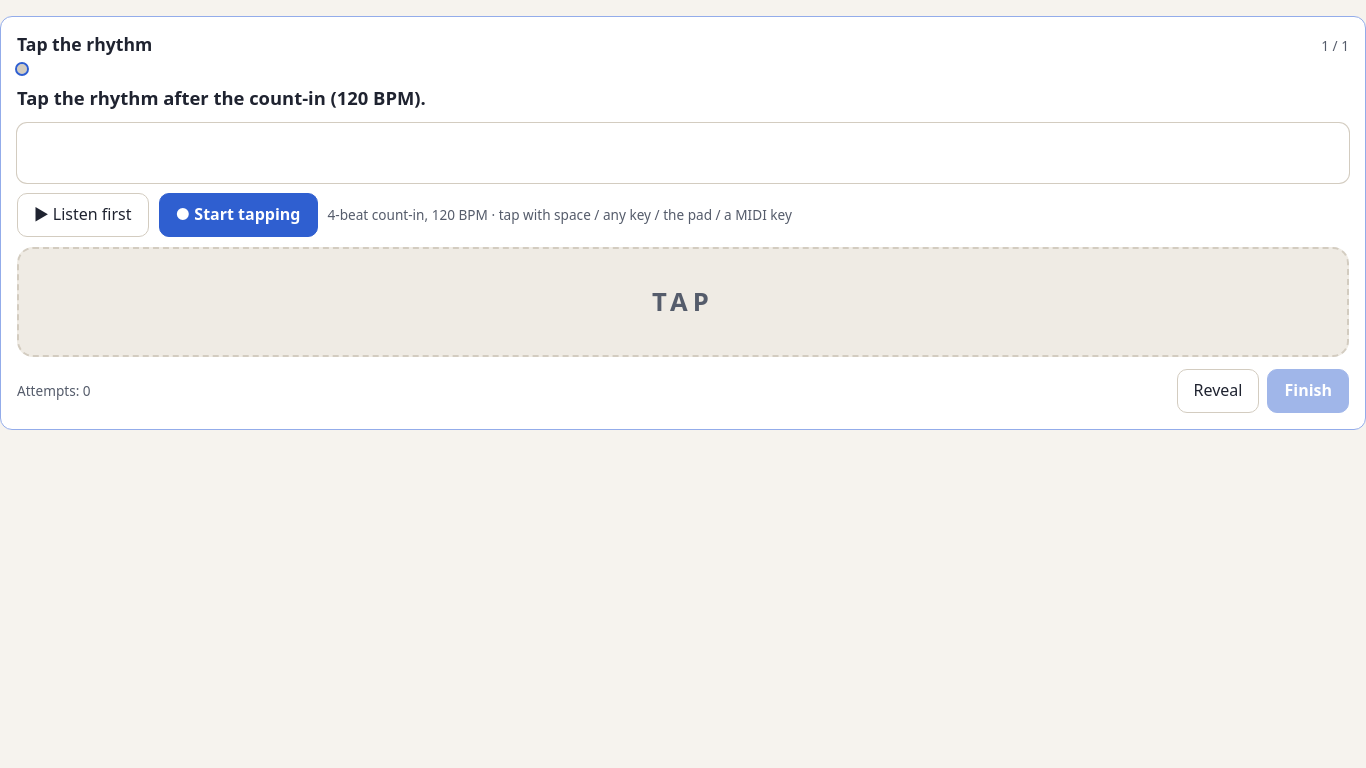
Test: timing exercises (performance capture) › rhythm-tap: space bar taps, late taps reported
The width and height of the screenshot is (1366, 768).
Step 1. Click the button with test id "perf-start" → (238, 215), box x1=158 y1=193 x2=318 y2=237
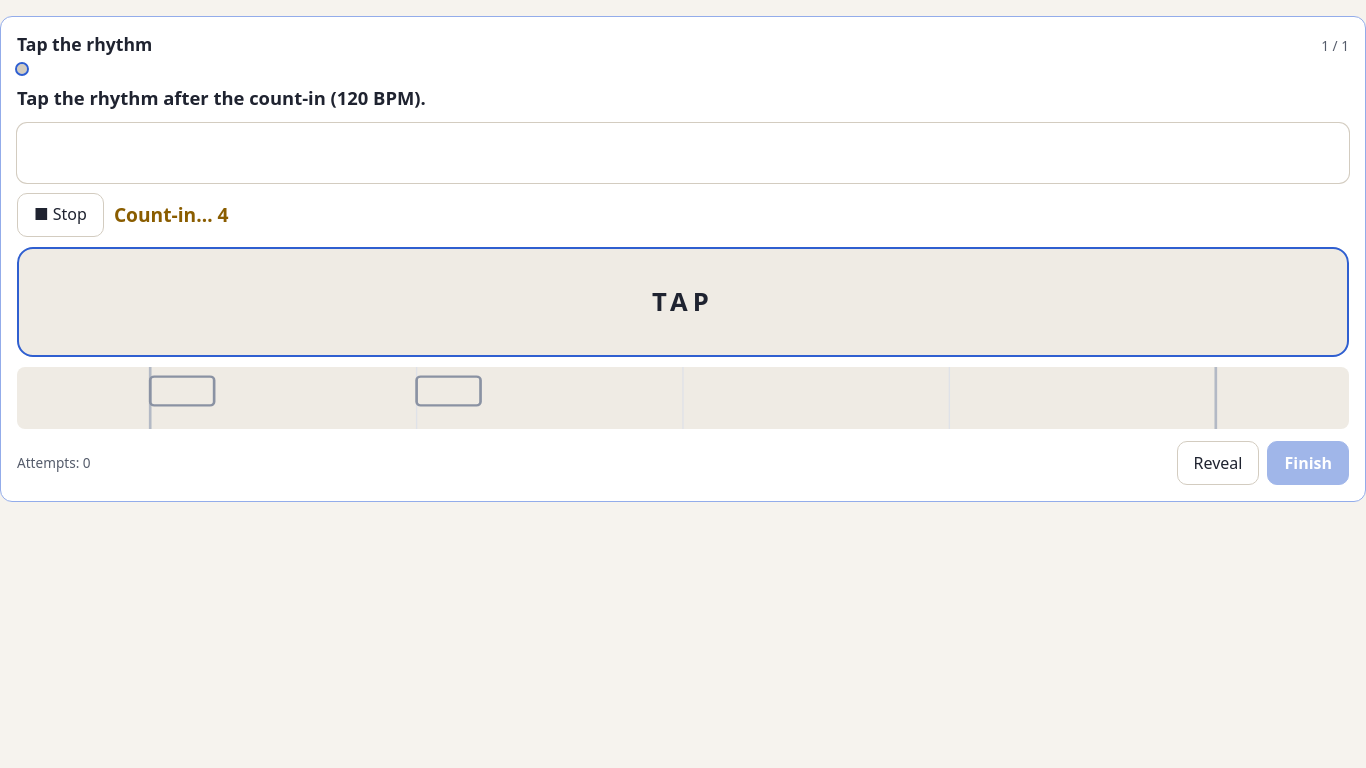
Step 2. Press Space
Step 3. Press Space
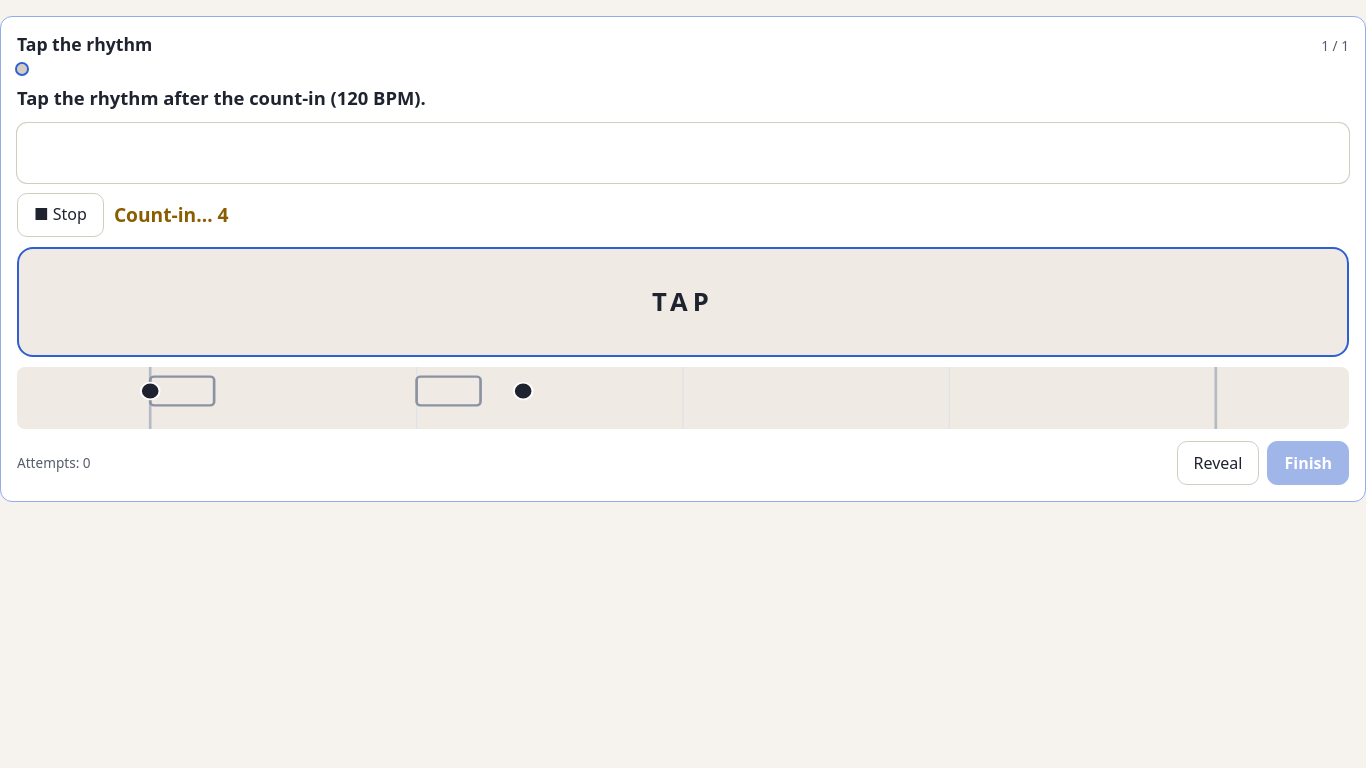
Step 4. Click the button with test id "perf-stop" → (60, 215), box x1=17 y1=193 x2=104 y2=237
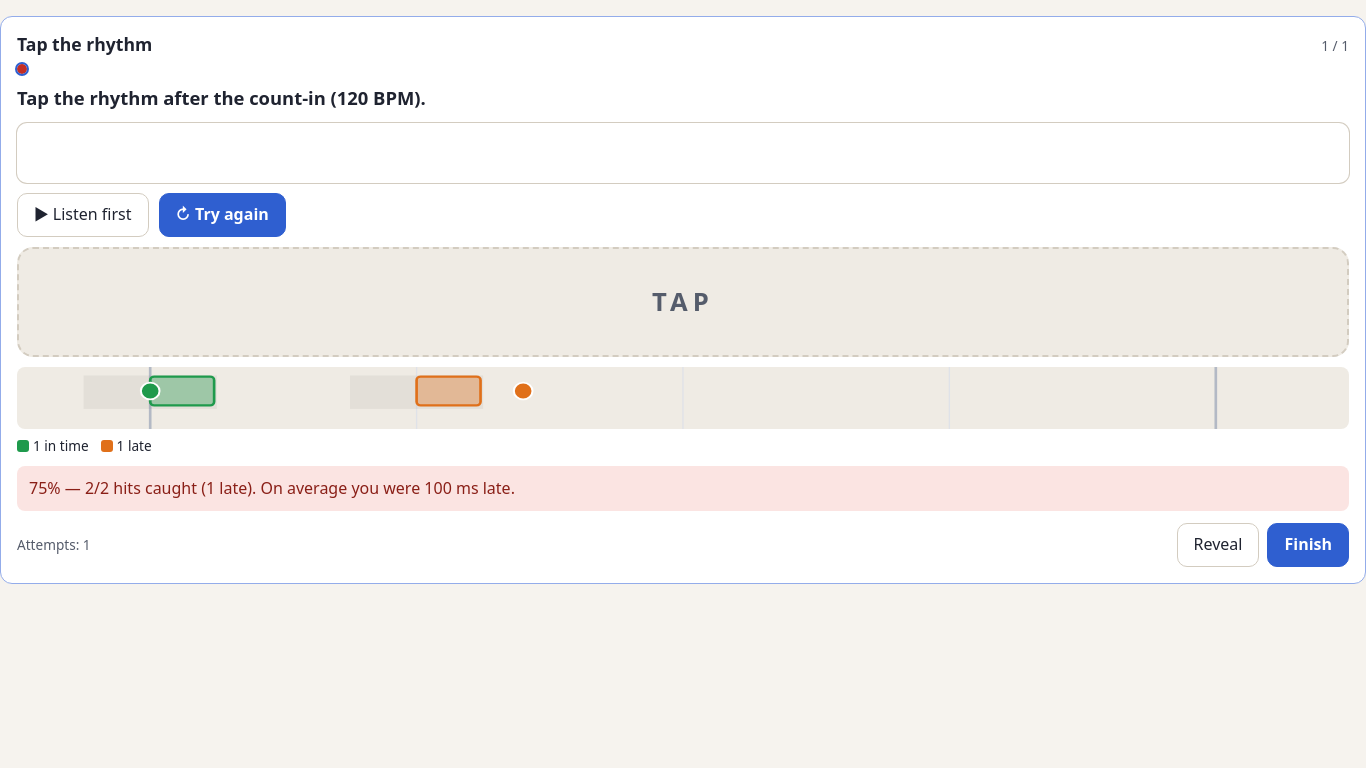
Check: the message shows "1 late", box x1=29 y1=477 x2=515 y2=499
